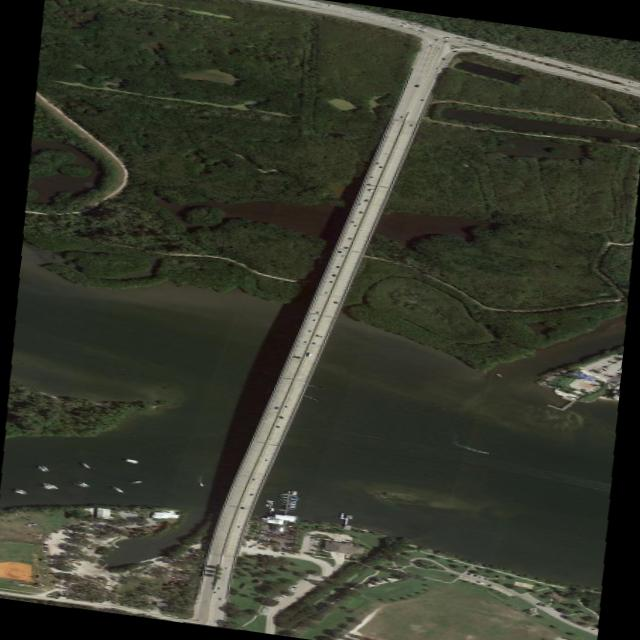ship: (104, 486, 127, 495), (40, 481, 60, 490), (75, 463, 95, 471), (127, 479, 146, 486), (11, 488, 29, 495), (37, 484, 53, 491), (31, 465, 46, 472), (38, 465, 50, 472), (124, 458, 137, 463)
